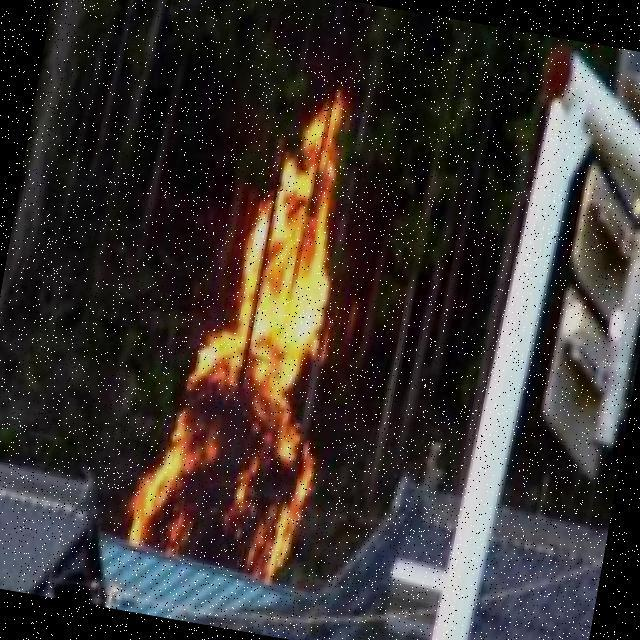Fire: (122, 74, 385, 590)
